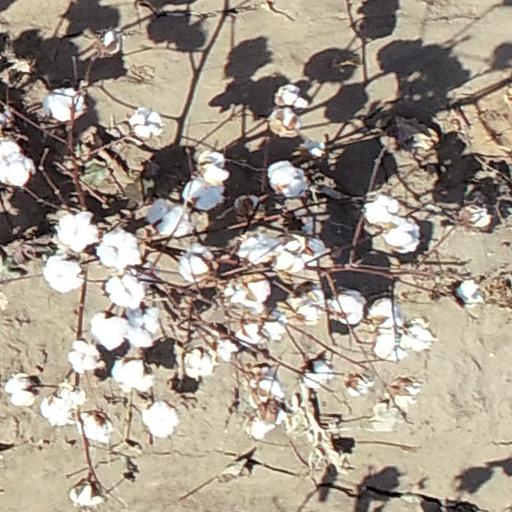Boll: (147, 201, 196, 237), (59, 212, 100, 253), (98, 230, 140, 270), (42, 255, 86, 293), (1, 143, 35, 189), (43, 385, 82, 423), (178, 242, 216, 281), (231, 273, 273, 308), (113, 357, 154, 392), (106, 275, 145, 310), (330, 288, 364, 326), (268, 161, 306, 195), (93, 311, 126, 350), (142, 400, 177, 436), (125, 310, 160, 345), (46, 86, 81, 121), (288, 292, 323, 325), (182, 179, 219, 209), (4, 373, 38, 404), (375, 328, 407, 360), (68, 338, 100, 370), (240, 236, 280, 261), (129, 108, 162, 138), (69, 483, 107, 509), (387, 219, 418, 250), (365, 197, 397, 227), (277, 237, 304, 272), (197, 153, 227, 184), (399, 321, 432, 349), (455, 281, 485, 310), (81, 412, 110, 442), (302, 359, 333, 387), (236, 317, 268, 344), (249, 377, 283, 402), (371, 300, 402, 325), (263, 311, 288, 342), (187, 350, 214, 378), (393, 377, 418, 406), (271, 112, 301, 135), (255, 402, 286, 424), (275, 86, 305, 108), (349, 370, 373, 396), (465, 208, 490, 229), (246, 415, 267, 438), (218, 334, 238, 357), (99, 35, 119, 53)
